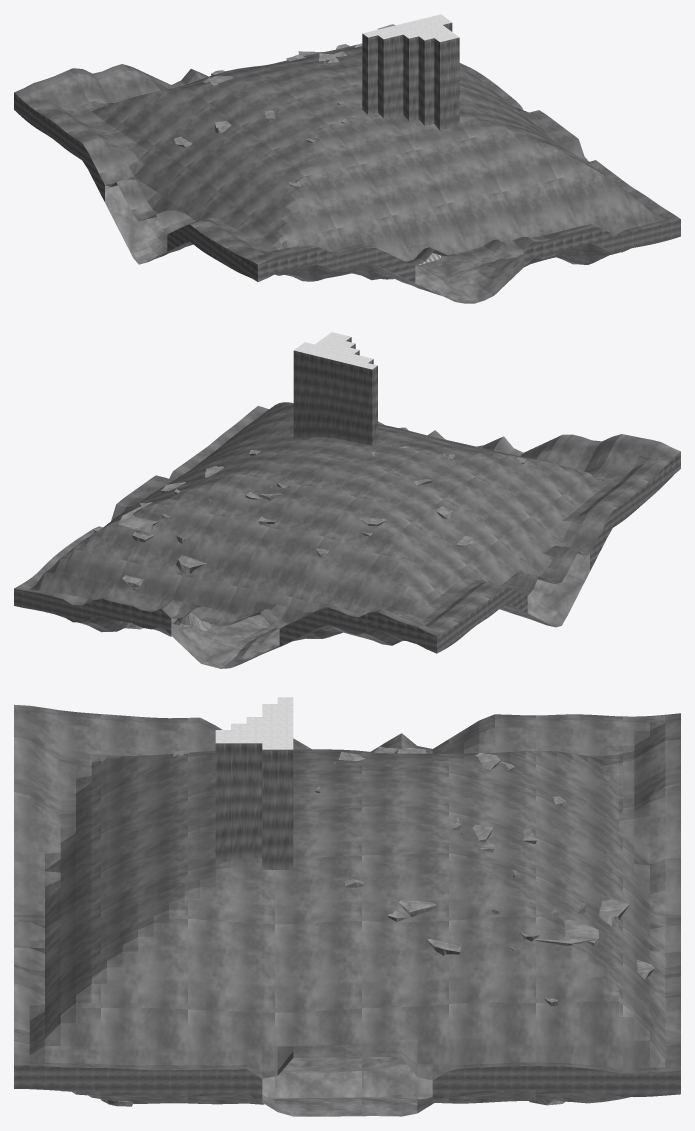
3 renders of one model, top to bottom at view 1: azimuth 30°, elevation 25°; view 2: azimuth 150°, elevation 25°; view 3: azimuth 270°, elevation 25°, orthographic. The views are drawn at different scales.
Visible parts, largest first — view 1: CavernVault, CavernWalls, CavernFloor, CavernShaft, CavernSkyCap, CavernStalactites; view 2: CavernVault, CavernWalls, CavernFloor, CavernShaft, CavernStalactites, CavernSkyCap, CavernColumns; view 3: CavernVault, CavernFloor, CavernWalls, CavernShaft, CavernStalactites, CavernSkyCap, CavernColumns.
Part boxes in pixels (box(x1,y1,x2,y2)): CavernVault: box(14, 43, 680, 265); CavernWalls: box(14, 93, 680, 282); CavernFloor: box(105, 185, 619, 303); CavernShaft: box(362, 23, 459, 130); CavernSkyCap: box(362, 14, 459, 41); CavernStalactites: box(174, 24, 395, 187); CavernVault: box(14, 402, 680, 636); CavernWalls: box(14, 452, 680, 653); CavernFloor: box(58, 553, 589, 668); CavernShaft: box(293, 337, 377, 445); CavernStalactites: box(93, 445, 525, 556); CavernSkyCap: box(294, 332, 377, 369); CavernColumns: box(120, 450, 454, 630); CavernVault: box(14, 704, 680, 1080); CavernFloor: box(60, 1057, 629, 1116); CavernWalls: box(14, 1065, 680, 1103); CavernShaft: box(215, 743, 293, 869); CavernStalactites: box(173, 747, 598, 1006); CavernSkyCap: box(215, 697, 293, 749); CavernColumns: box(345, 746, 654, 979).
Size of the model in its own units: 92 by 46.31 by 92.
6 materials, 6 textured.
